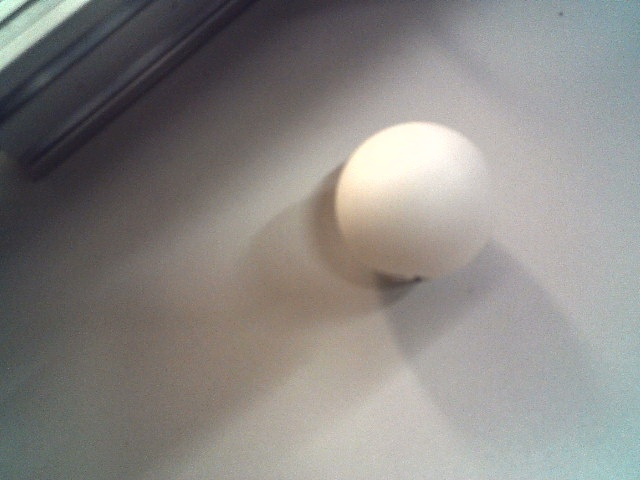pingpong: (335, 123, 490, 281)
